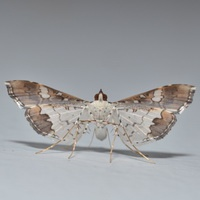insect: (5, 80, 195, 162)
